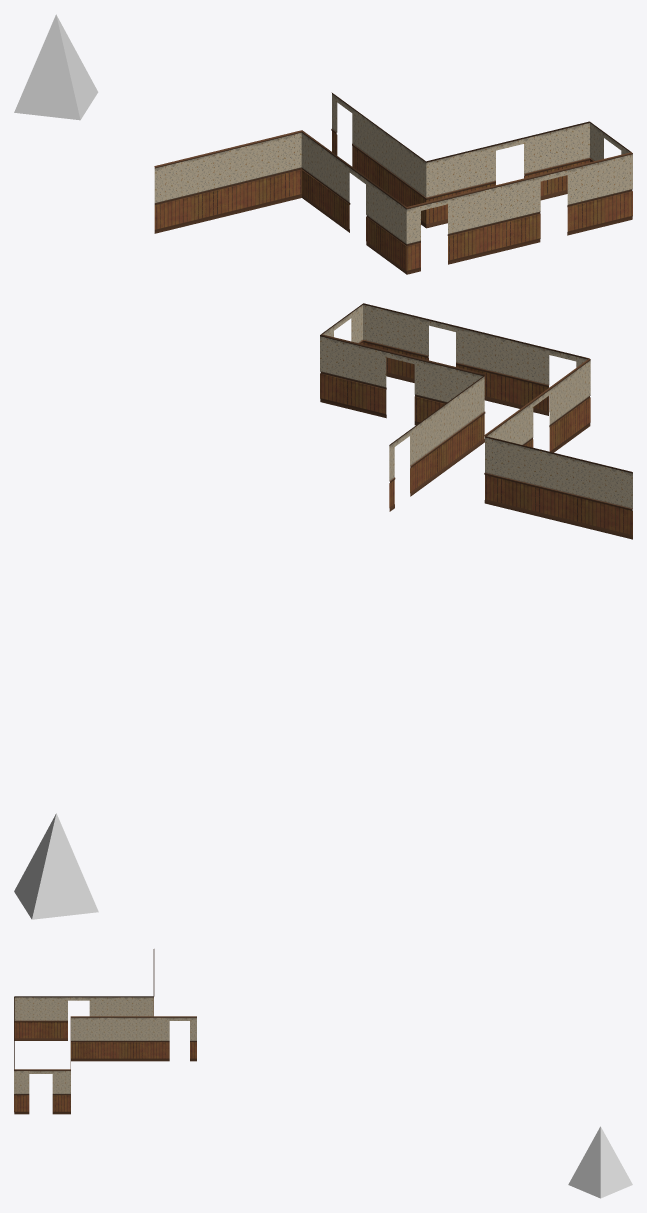
File: SM_floor2_Hall_01.fbx
3 renders of one model, top to bottom at view 1: azimuth 30°, elevation 25°; view 2: azimuth 150°, elevation 25°; view 3: azimuth 270°, elevation 25°, orthographic. The views are drawn at different scales.
Parts seen in each view (by area): view 1: Trim_Wall2ndfloor.001, SM_referemcepoint; view 2: Trim_Wall2ndfloor.001, SM_referemcepoint; view 3: Trim_Wall2ndfloor.001, SM_referemcepoint.
Boxes of the visible parts, <box> form: Trim_Wall2ndfloor.001: <box>154,92,632,274</box>; SM_referemcepoint: <box>14,14,98,120</box>; Trim_Wall2ndfloor.001: <box>320,303,632,539</box>; SM_referemcepoint: <box>14,813,98,919</box>; Trim_Wall2ndfloor.001: <box>14,949,196,1114</box>; SM_referemcepoint: <box>568,1126,632,1198</box>.
Bounding box in the file's own units: 1518 × 3277 × 932.
